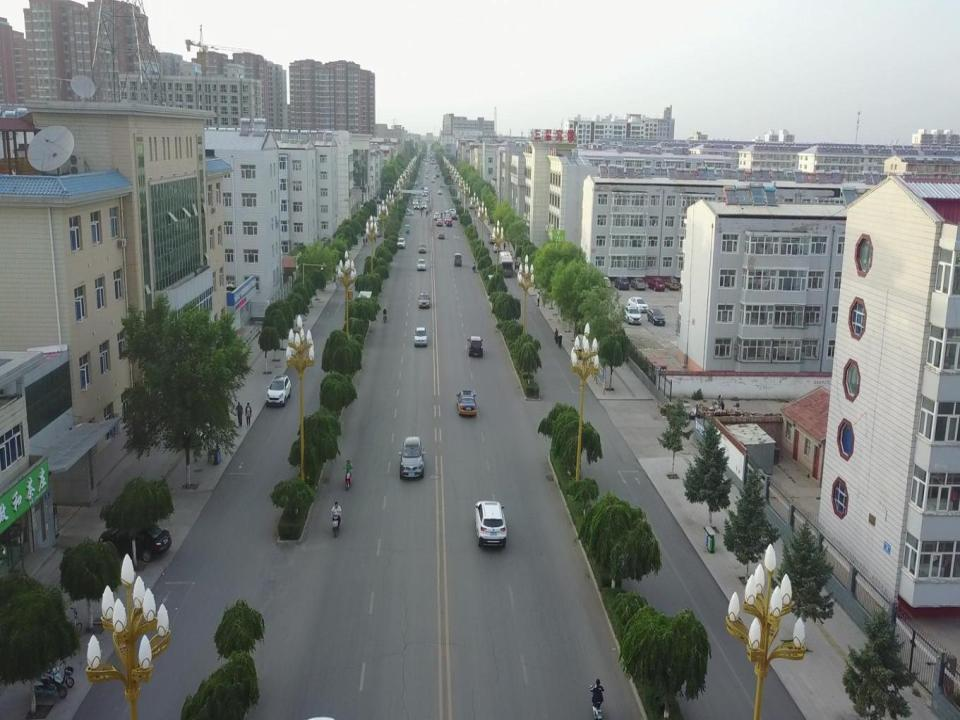bus: (498, 250, 513, 278)
car: (98, 524, 171, 563), (475, 499, 506, 548), (398, 436, 424, 479), (266, 374, 292, 408), (454, 387, 476, 417), (467, 334, 484, 359), (623, 305, 641, 325), (412, 326, 429, 347), (647, 308, 665, 326), (628, 298, 648, 312), (649, 276, 664, 292), (665, 277, 680, 291), (630, 277, 645, 291), (614, 277, 630, 290), (418, 292, 430, 308), (600, 276, 612, 288), (416, 259, 426, 271), (397, 238, 406, 250), (401, 208, 414, 216), (437, 231, 445, 241), (419, 242, 426, 253), (445, 208, 456, 215), (493, 243, 501, 252), (436, 218, 443, 227), (487, 233, 493, 243), (414, 203, 419, 211), (452, 213, 458, 219), (434, 212, 439, 219), (446, 220, 451, 226), (421, 203, 426, 209), (421, 200, 426, 206), (413, 199, 418, 205), (445, 218, 452, 222), (423, 197, 428, 202), (416, 196, 420, 202), (423, 190, 427, 196), (424, 185, 428, 191), (446, 215, 450, 220), (446, 213, 450, 217), (430, 178, 434, 182), (436, 173, 439, 178), (425, 174, 428, 179), (438, 190, 441, 194), (421, 185, 424, 189), (424, 181, 427, 185), (434, 175, 436, 179)
truck: (373, 227, 382, 237)
van: (453, 252, 463, 268)
